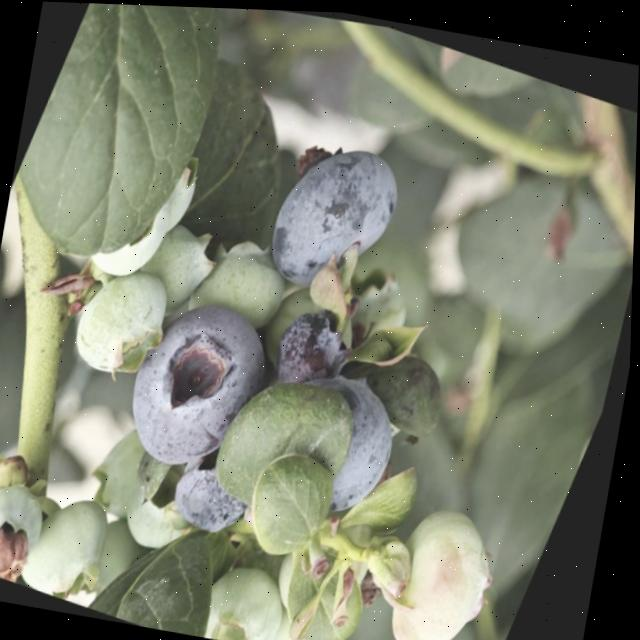RipeBlueBerry: (108, 272, 298, 491), (251, 115, 425, 311)
UnripeBlueBerry: (375, 483, 532, 640), (65, 248, 190, 387), (21, 477, 139, 611), (0, 468, 71, 589)
